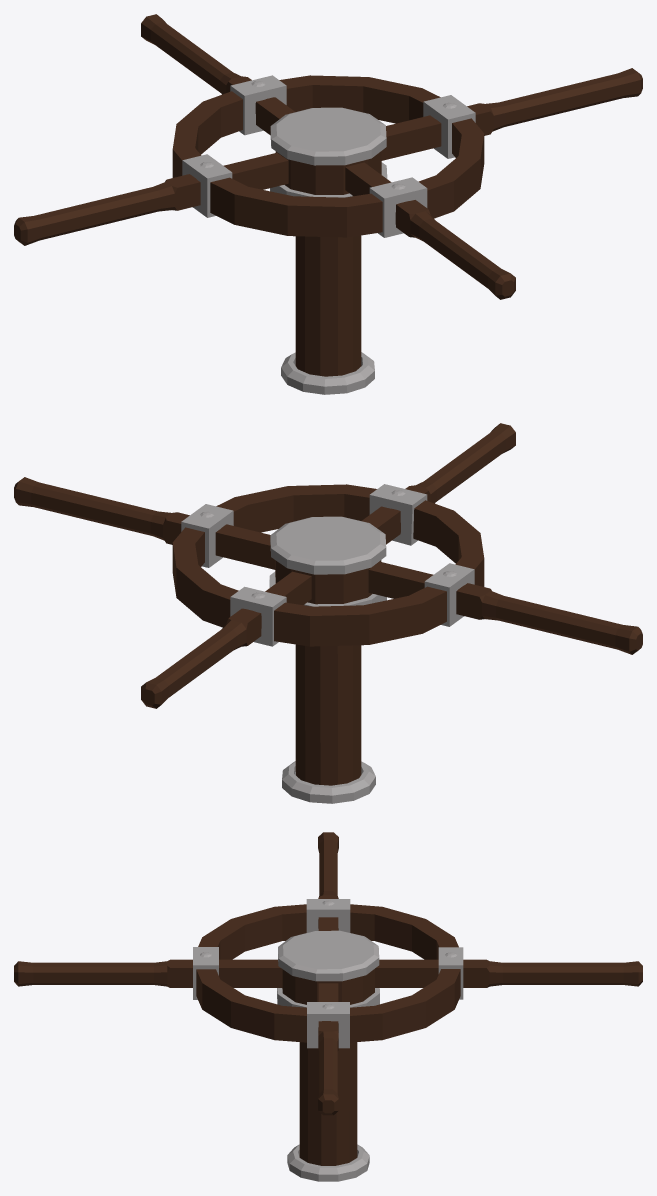
Rendered from WoodenCapstanWheel.fbx.
The picture shows the model from 3 angles, top to bottom: view 1: azimuth 30°, elevation 25°; view 2: azimuth 150°, elevation 25°; view 3: azimuth 270°, elevation 25°; orthographic projection. The views are drawn at different scales.
Visible parts, largest first — view 1: WoodenCapstanWheel; view 2: WoodenCapstanWheel; view 3: WoodenCapstanWheel.
Part boxes in pixels (x1,y1,x2,y2): WoodenCapstanWheel: (14, 14, 642, 394); WoodenCapstanWheel: (14, 423, 642, 803); WoodenCapstanWheel: (14, 832, 642, 1181).
Bounding box in the file's own units: 320 × 121 × 320.
